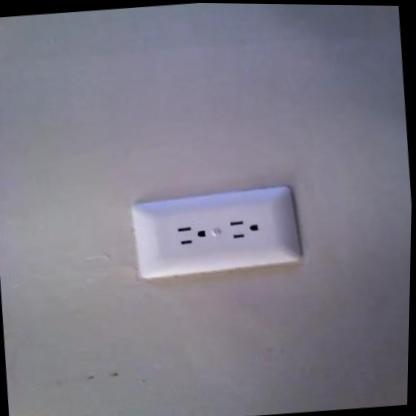OUTLET: (131, 186, 296, 280)
